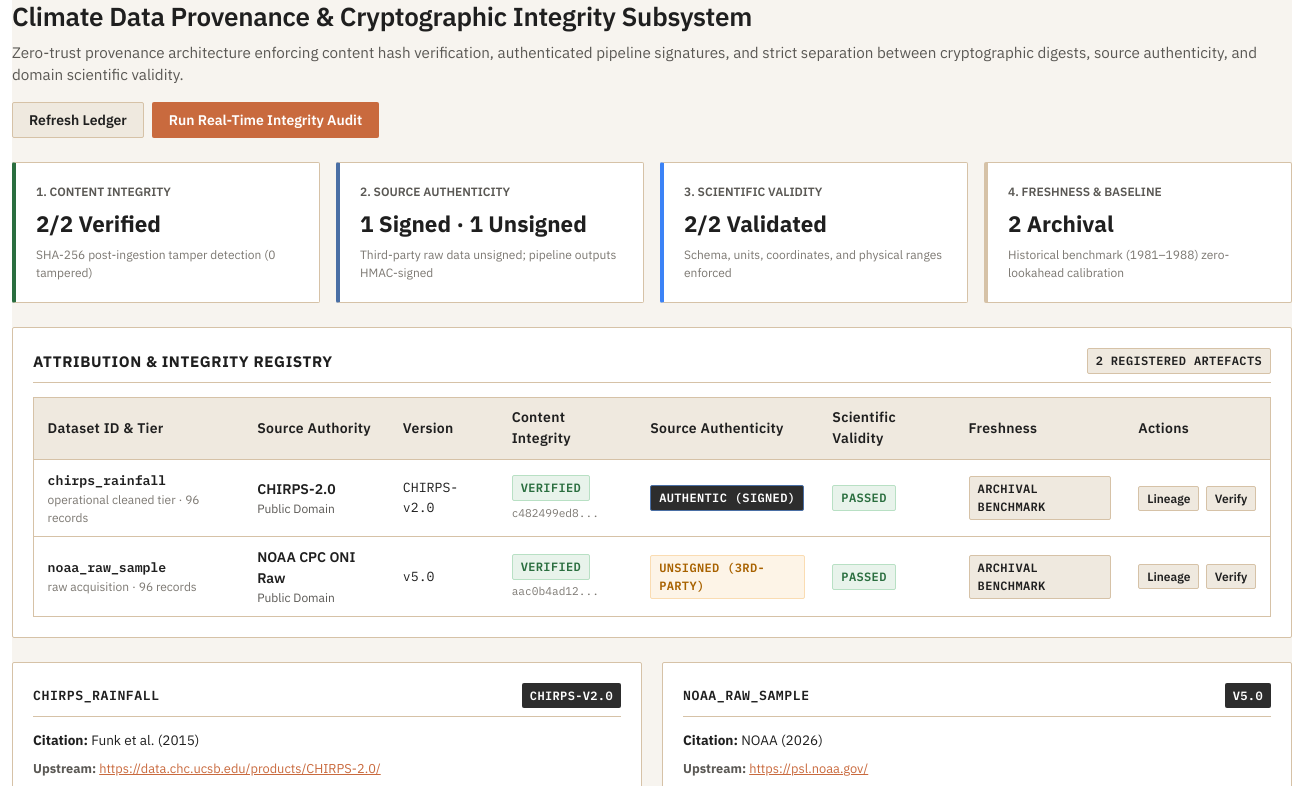
ProvenanceView Subsystem › toggles transformation lineage drawer and displays processing stages
Check: the text "chirps_rainfall" is shown, box top-left (48, 471), bottom-right (166, 489)
What coordinates should you click on to do the following:
click the button "Lineage" in the row of "operational cleaned tier"
I would click on:
 (1169, 498)
Its box is top-left (1138, 486), bottom-right (1199, 511).
(page scrolled)
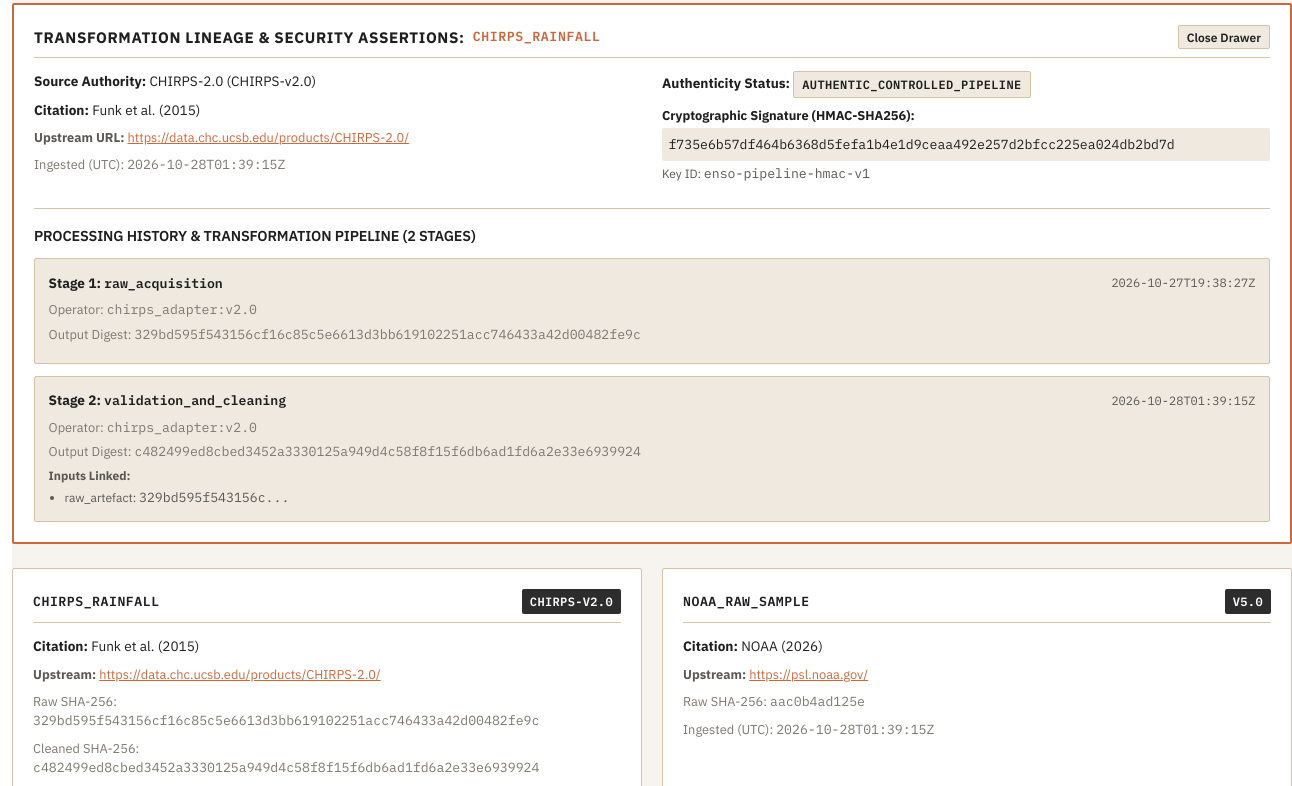
Check: the text "Transformation Lineage & Security Assertions:" is shown, box top-left (34, 26), bottom-right (465, 48)
Check: the text "Stage 1: raw_acquisition" is shown, box top-left (49, 273), bottom-right (223, 294)
Check: the text "raw_acquisition" is shown, box top-left (104, 274), bottom-right (223, 292)
